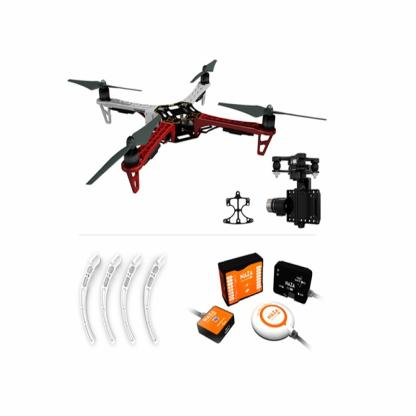drone: (66, 58, 329, 202)
